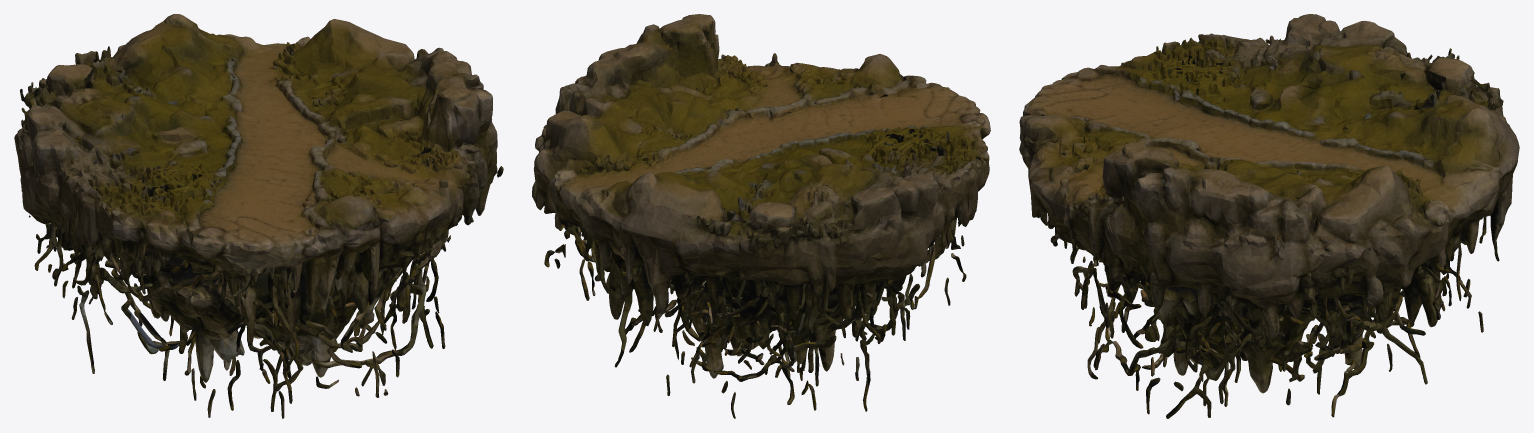
The picture shows the model from 3 angles, left to right: view 1: azimuth 30°, elevation 25°; view 2: azimuth 150°, elevation 25°; view 3: azimuth 270°, elevation 25°; orthographic projection. The views are drawn at different scales.
Parts seen in each view (by area): view 1: world; view 2: world; view 3: world.
Boxes of the visible parts, <box> form: world: <box>14,14,503,418</box>; world: <box>532,14,990,418</box>; world: <box>1019,14,1519,418</box>.
Size of the model in its own units: 1.96 by 1.45 by 1.95.
1 material, 1 textured.
